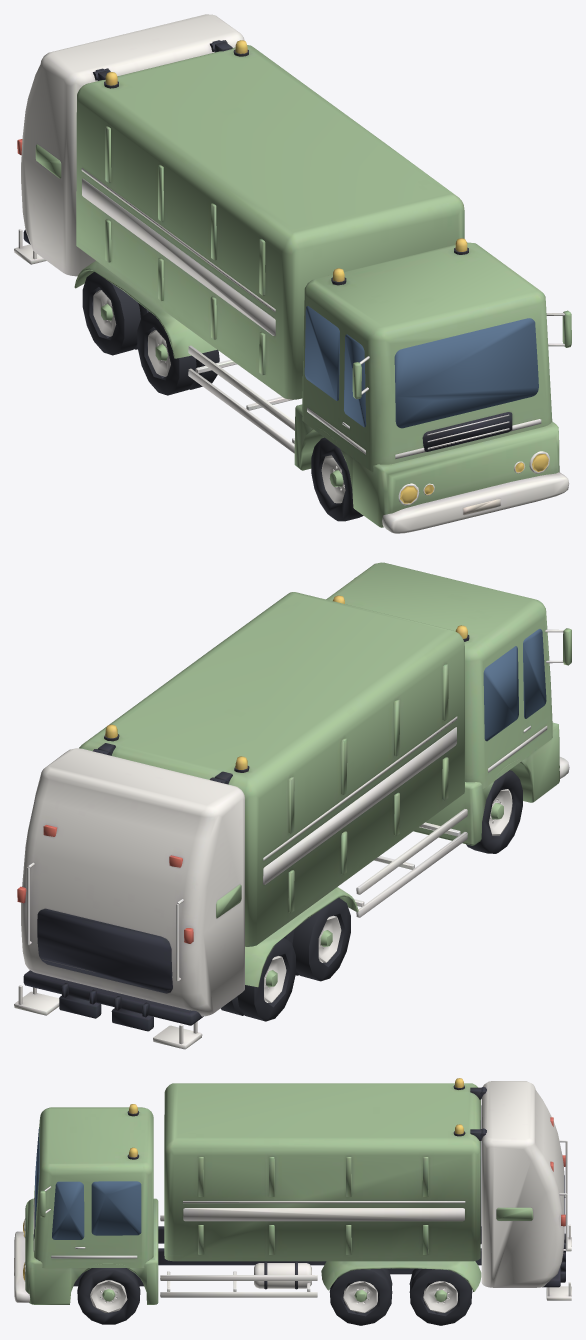
File: n_garbage.glb
3 renders of one model, top to bottom at view 1: azimuth 30°, elevation 25°; view 2: azimuth 150°, elevation 25°; view 3: azimuth 270°, elevation 25°, orthographic. The views are drawn at different scales.
Parts seen in each view (by area): view 1: garbage-truck_body, garbage-truck_tailgate, garbage-truck_windows, garbage-truck_wheel_r2r, garbage-truck_wheel_r1r, garbage-truck_wheel_fr, garbage-truck_headlights; view 2: garbage-truck_body, garbage-truck_tailgate, garbage-truck_windows, garbage-truck_wheel_r1r, garbage-truck_wheel_r2r, garbage-truck_wheel_fr; view 3: garbage-truck_body, garbage-truck_tailgate, garbage-truck_windows, garbage-truck_wheel_fl, garbage-truck_wheel_r2l, garbage-truck_wheel_r1l.
Part boxes in pixels (x1,y1,x2,y2): garbage-truck_body: (74,40,571,533); garbage-truck_tailgate: (14,14,244,276); garbage-truck_windows: (304,306,538,428); garbage-truck_wheel_r2r: (82,272,149,355); garbage-truck_wheel_r1r: (137,312,219,395); garbage-truck_wheel_fr: (311,437,363,521); garbage-truck_headlights: (398,451,549,505); garbage-truck_body: (79,562,571,987); garbage-truck_tailgate: (14,748,244,1049); garbage-truck_windows: (483,629,546,741); garbage-truck_wheel_r1r: (284,898,350,981); garbage-truck_wheel_r2r: (221,938,295,1021); garbage-truck_wheel_fr: (466,770,522,853); garbage-truck_body: (14,1078,481,1304); garbage-truck_tailgate: (480,1081,571,1300); garbage-truck_windows: (35,1127,141,1239); garbage-truck_wheel_fl: (77,1268,140,1324); garbage-truck_wheel_r2l: (409,1268,472,1325); garbage-truck_wheel_r1l: (329,1268,392,1325).
Size of the model in its own units: 2.95 by 3.48 by 9.07.
3 materials, 2 textured.
